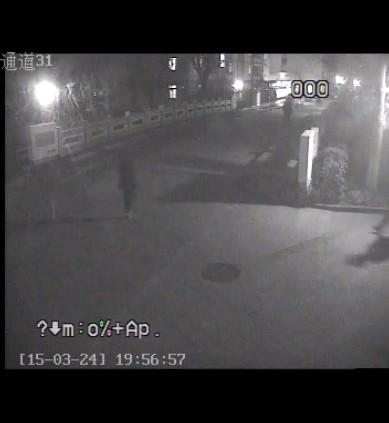person: (116, 150, 138, 220), (280, 98, 295, 131)
